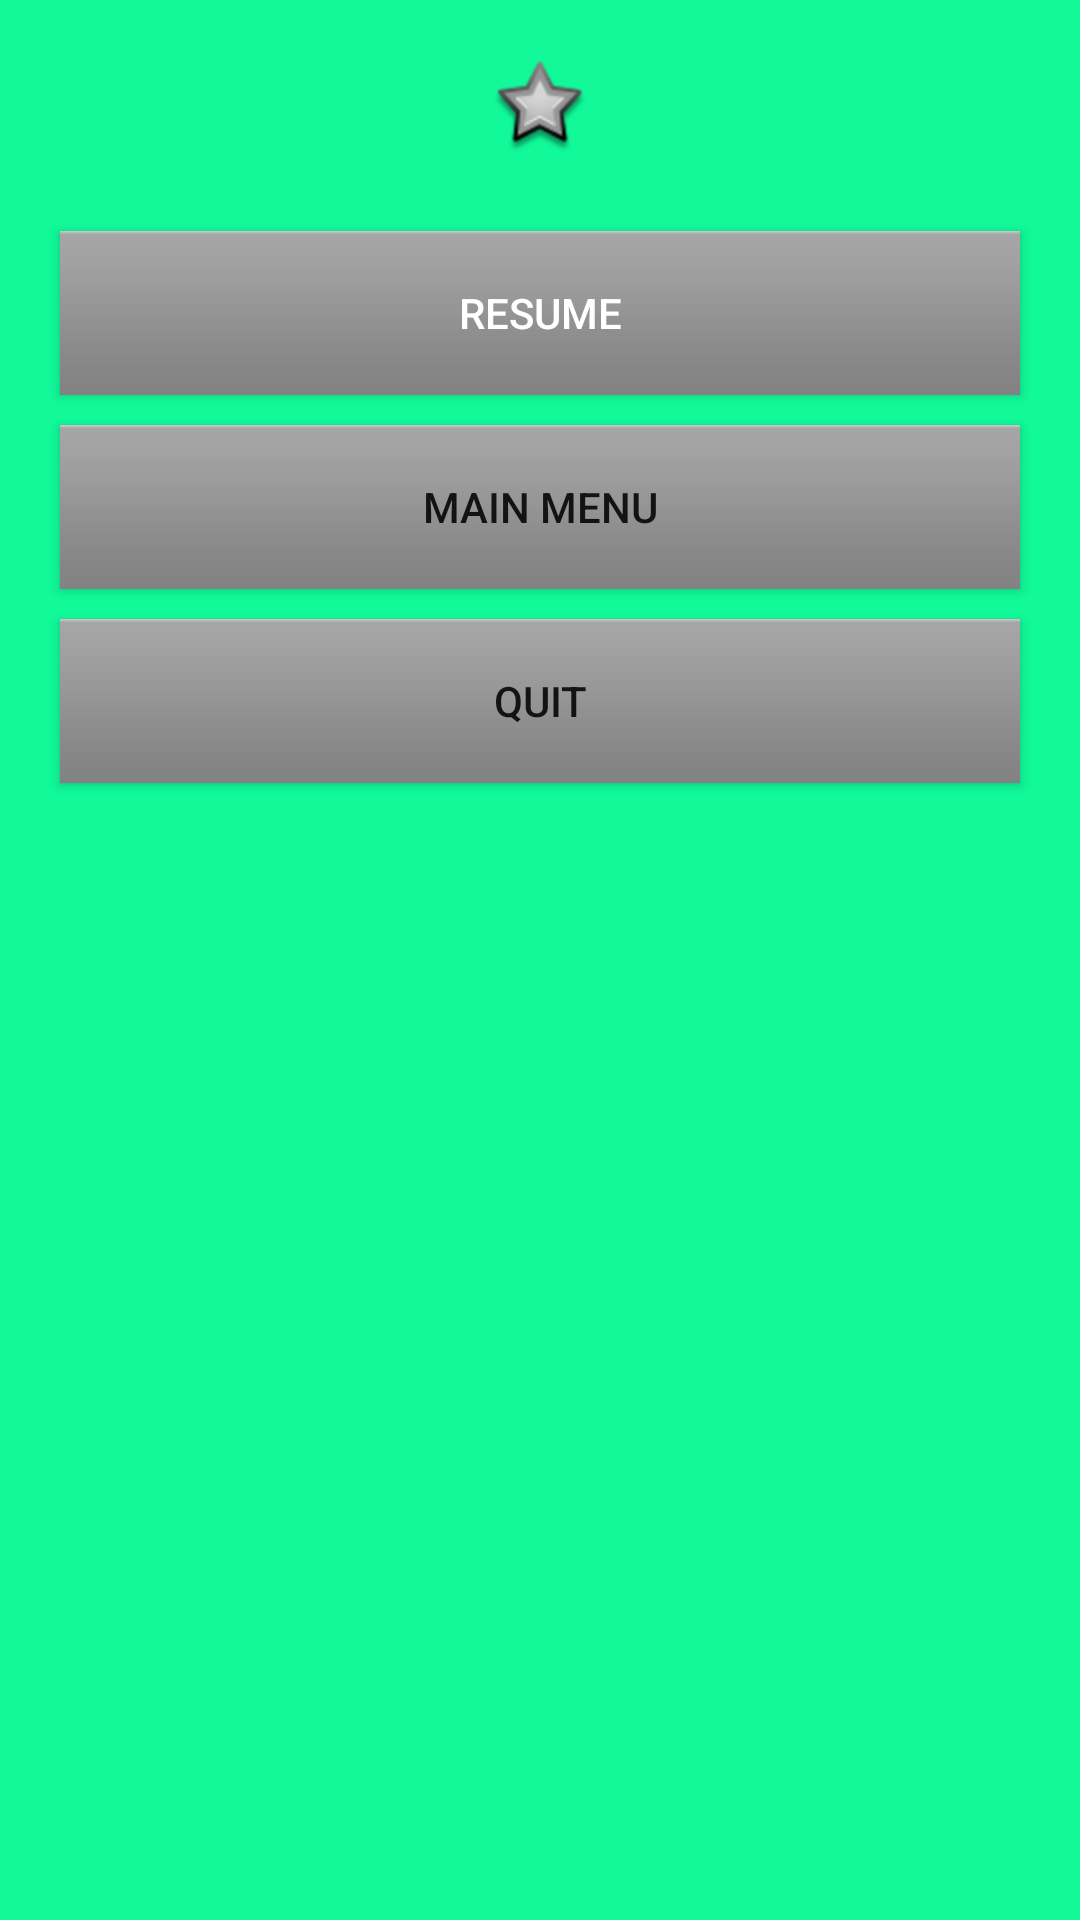

Where icons sit on this 1080*1920 app screen, as (x1, y1, x2, y2):
star off: (497, 61, 582, 148)
